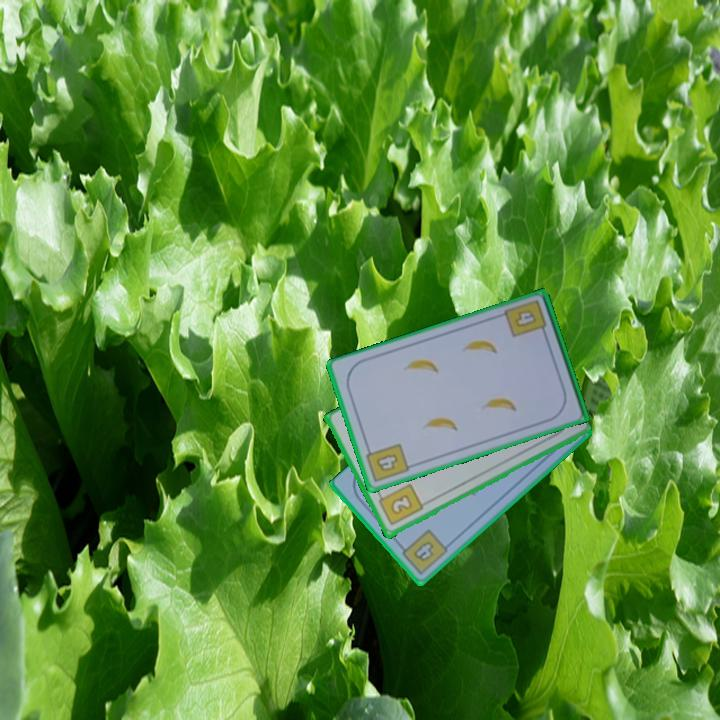2b: (374, 481, 426, 529)
4b: (395, 526, 451, 578), (362, 440, 412, 485), (501, 296, 550, 341)
